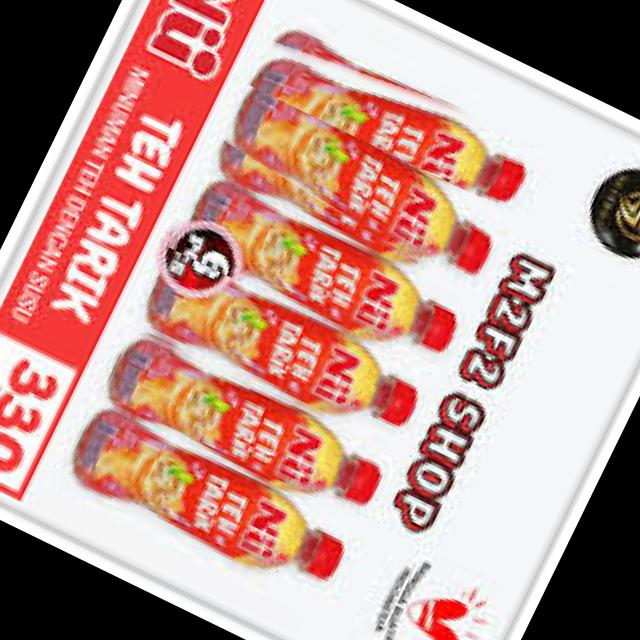plastic bottle: (156, 159, 478, 385), (233, 5, 554, 228), (198, 80, 516, 299), (52, 392, 358, 613), (122, 243, 429, 452), (98, 320, 394, 522)
